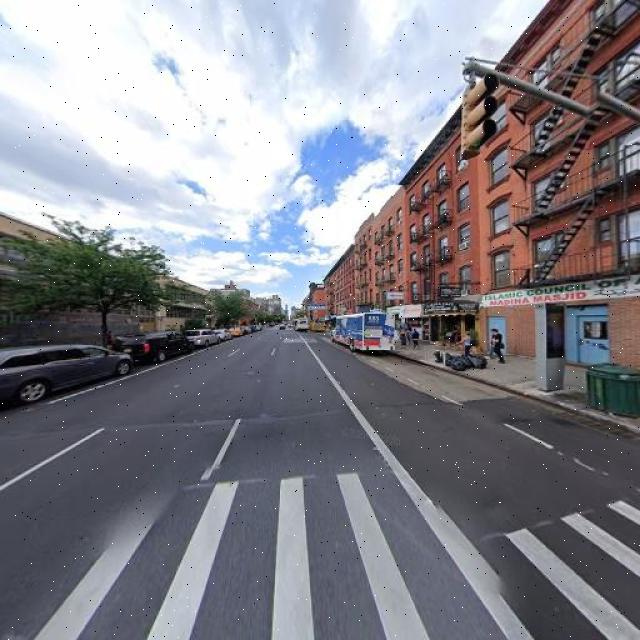Building: (454, 1, 640, 379), (1, 219, 207, 358)
